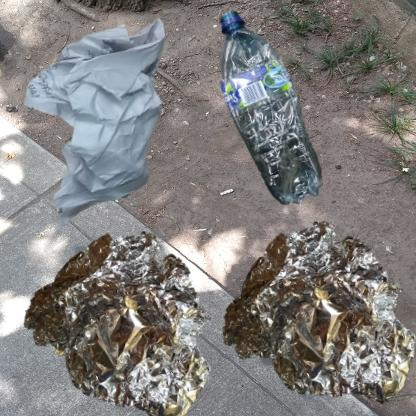aluminio: (10, 213, 236, 416), (213, 213, 416, 416)
botella: (213, 10, 330, 209)
papel: (10, 10, 211, 243)
